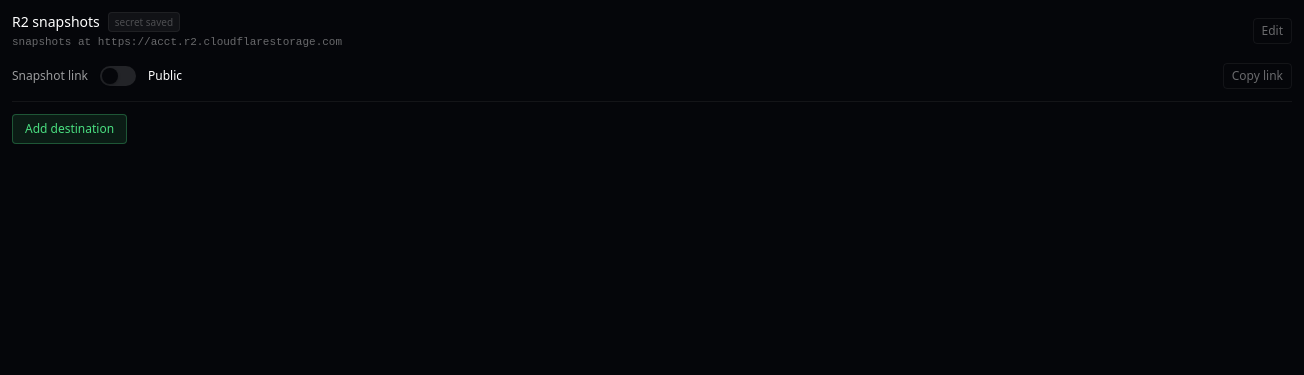
Test: DestinationsPane › keeps the form open and shows the refusal when a save fails
This screenshot has width=1304, height=375.
Expected: the text "R2 snapshots" is shown, top-left (12, 12), bottom-right (100, 32)
Click the button with aria-label "Edit R2 snapshots". click: (1272, 31)
box: top-left (1252, 18), bottom-right (1292, 44)
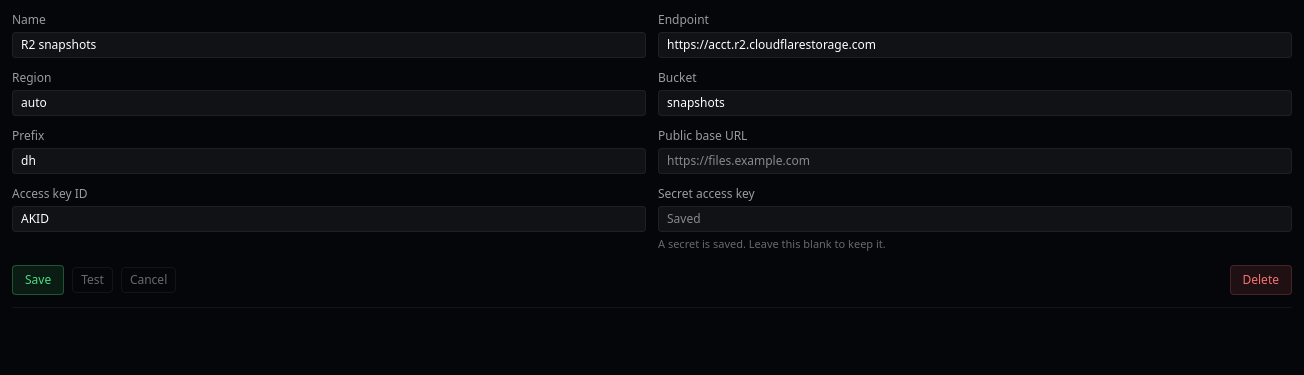
Click the button "Save". click: (38, 280)
box: top-left (12, 264), bottom-right (64, 294)
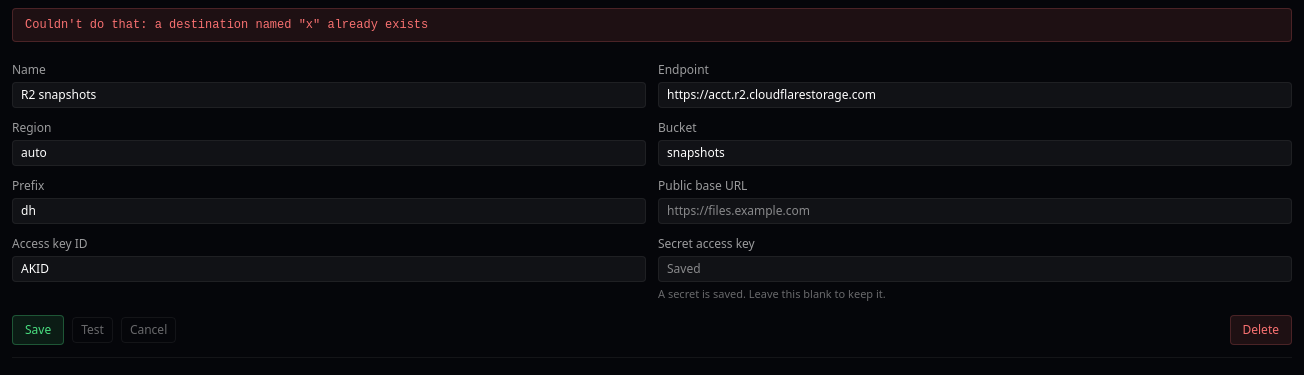
Result: the field labelled "Name" holds "R2 snapshots" at top-left (12, 82), bottom-right (646, 108)
Result: the message shows "already exists" at top-left (155, 18), bottom-right (428, 32)
